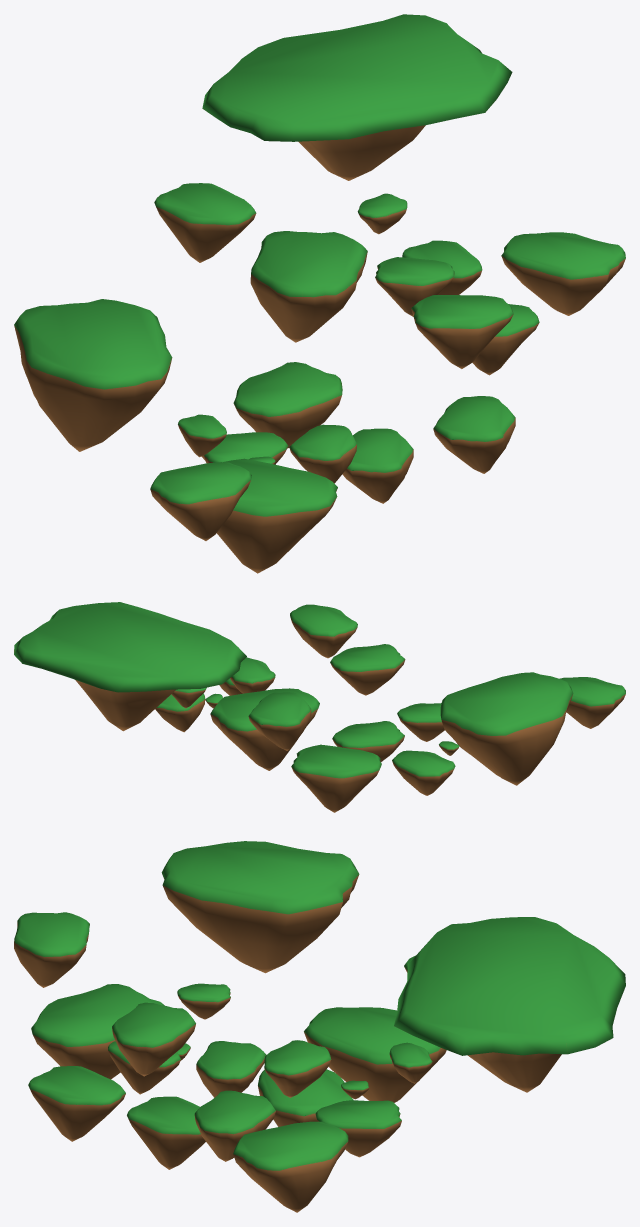
File: island.glb
3 views of the same model, one above another, from view 1: azimuth 30°, elevation 25°; view 2: azimuth 150°, elevation 25°; view 3: azimuth 270°, elevation 25° (orthographic). The views are drawn at different scales.
Visible parts, largest first — view 1: Vert; view 2: Vert; view 3: Vert.
Boxes of the visible parts, left/top/right/bottom form: Vert: left=14, top=14, right=625, bottom=573; Vert: left=14, top=602, right=625, bottom=812; Vert: left=14, top=841, right=625, bottom=1212.
Bounding box in the file's own units: 331 × 140 × 298.
1 material, 1 textured.
